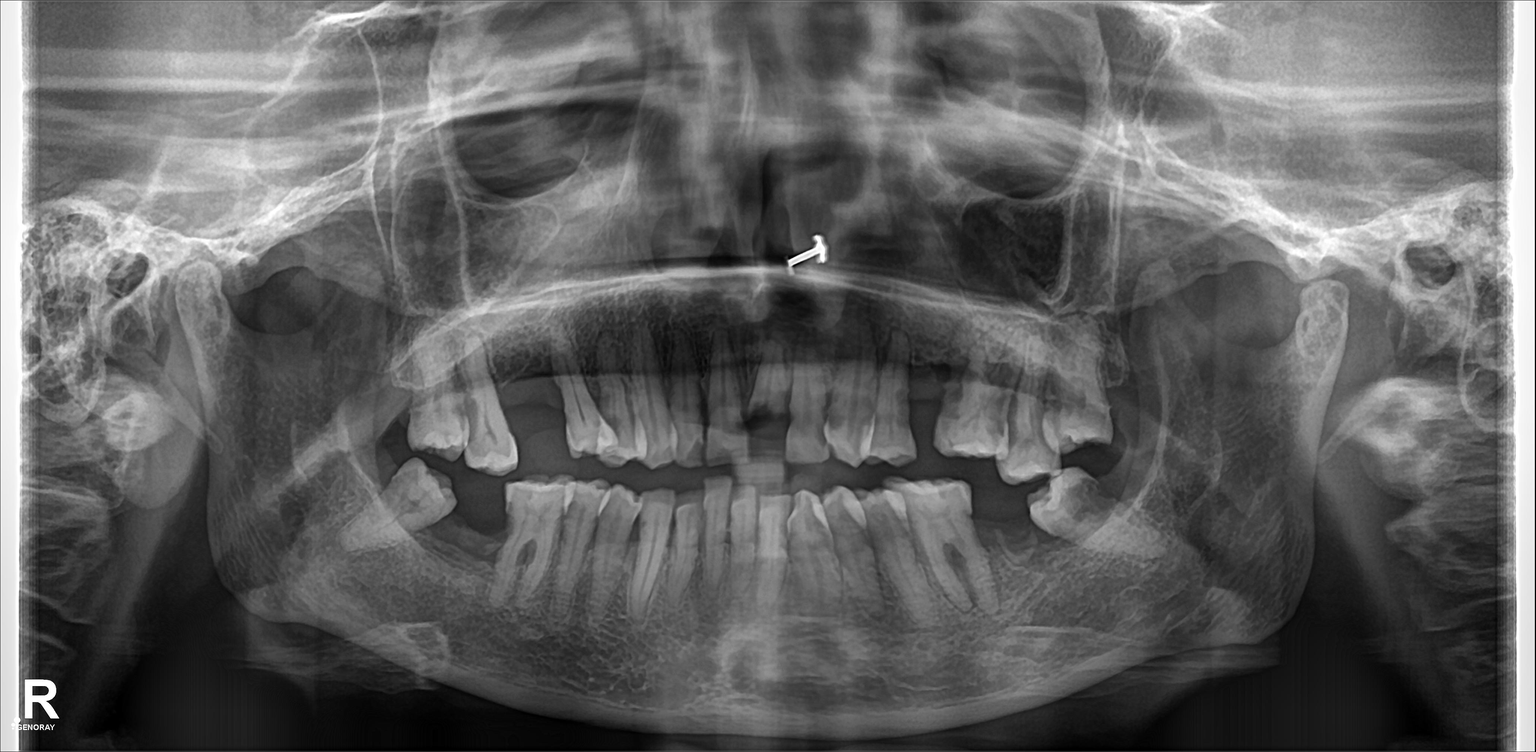Dental Caries: (741, 404, 781, 445)
Impacted Third Molar: (1040, 473, 1159, 554), (356, 471, 453, 542)
Missing Tooth: (499, 352, 563, 456), (454, 482, 511, 588), (985, 490, 1046, 582), (1114, 348, 1156, 450), (374, 356, 417, 448), (916, 374, 939, 436)
